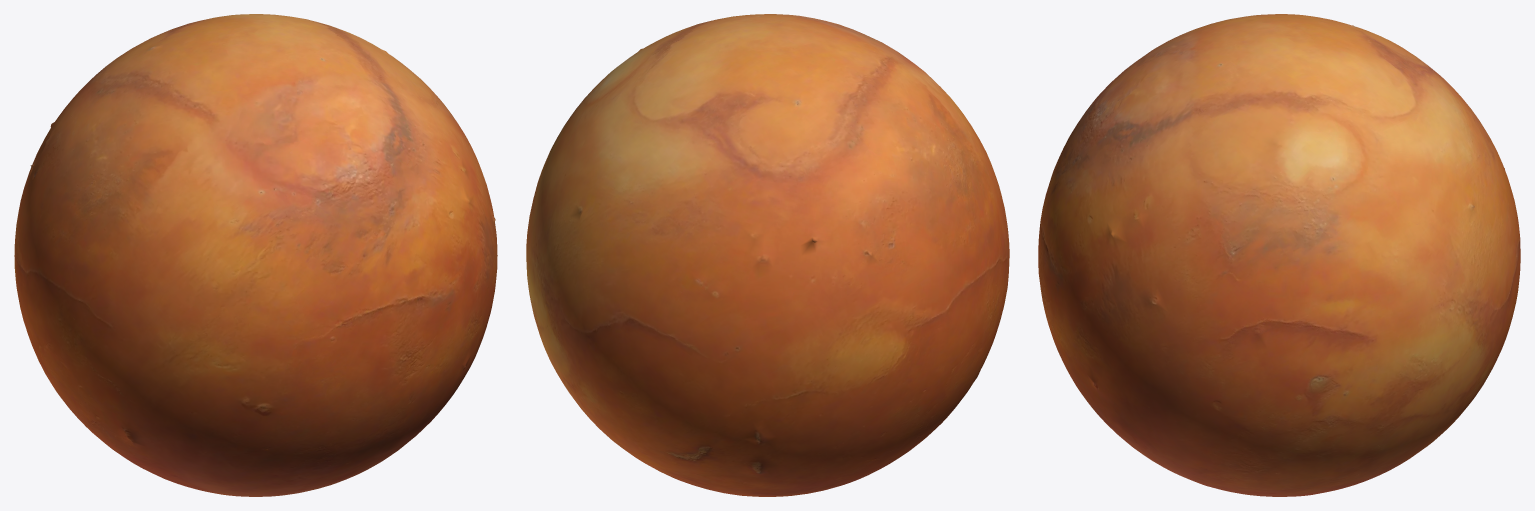
The model's file is desert_planet_2.glb.
The picture shows the model from 3 angles, left to right: view 1: azimuth 30°, elevation 25°; view 2: azimuth 150°, elevation 25°; view 3: azimuth 270°, elevation 25°; orthographic projection.
Parts seen in each view (by area): view 1: Mesh_0.009; view 2: Mesh_0.009; view 3: Mesh_0.009.
Part boxes in pixels (x1,y1,x2,y2): Mesh_0.009: (14,14,497,496); Mesh_0.009: (526,14,1009,496); Mesh_0.009: (1038,14,1520,496).
Bounding box in the file's own units: 2 × 2 × 2.
Materials: 1 (1 with a texture image).
